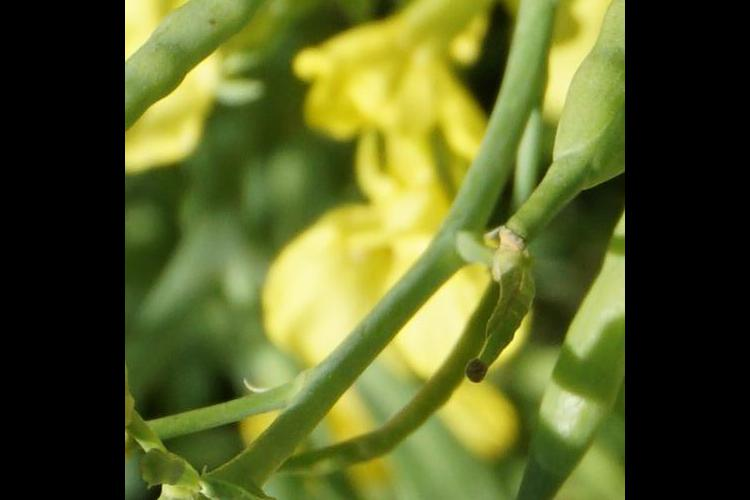pod: (441, 165, 600, 500), (495, 25, 607, 258), (463, 229, 548, 436)
